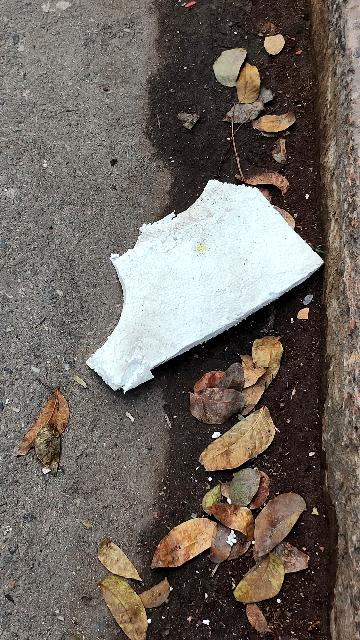cocksheet: (36, 142, 322, 401)
